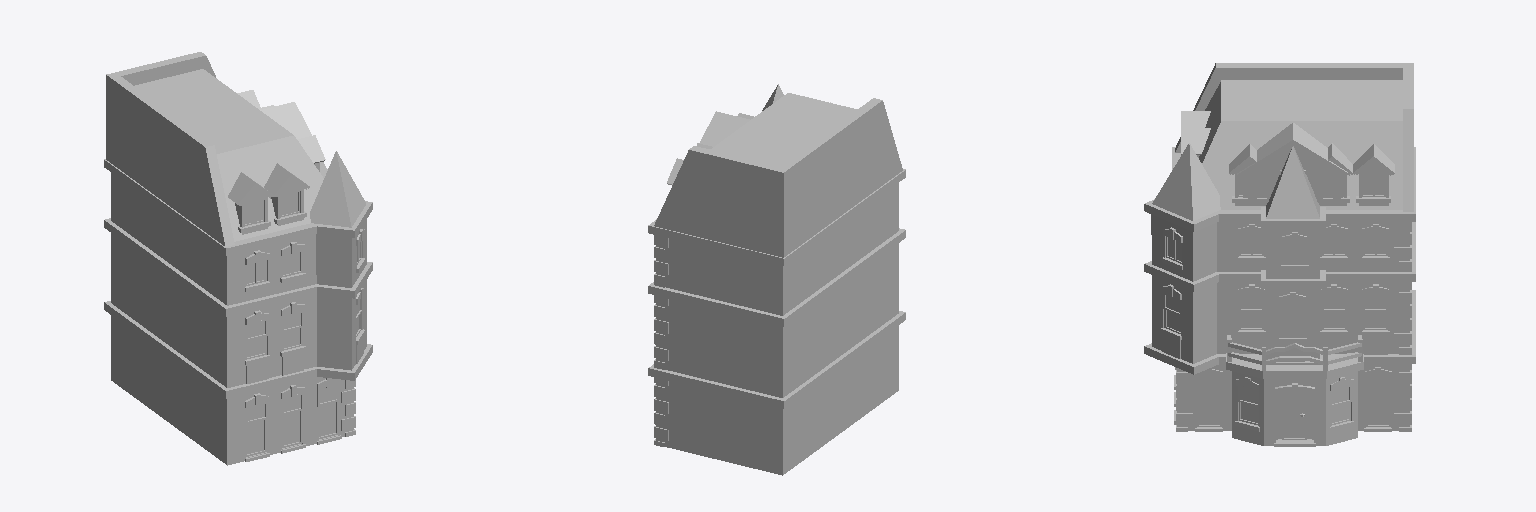
The model's file is House4.obj.
3 views of the same model, side by side, from view 1: azimuth 30°, elevation 25°; view 2: azimuth 150°, elevation 25°; view 3: azimuth 270°, elevation 25° (orthographic).
Parts seen in each view (by area): view 1: House4:Cube_278; view 2: House4:Cube_278; view 3: House4:Cube_278.
Boxes of the visible parts, box(x1,y1,x2,y2) form: House4:Cube_278: box(104, 52, 372, 465); House4:Cube_278: box(648, 84, 905, 475); House4:Cube_278: box(1144, 63, 1415, 446).
Size of the model in its own units: 8.09 by 14.01 by 11.29.